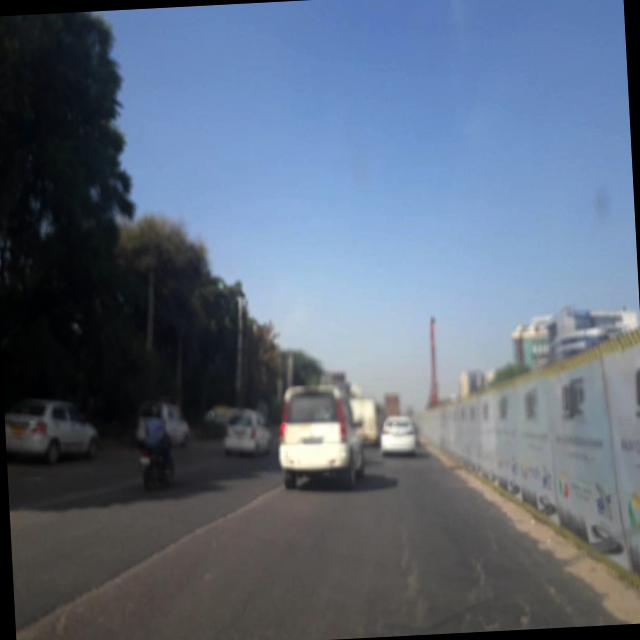crack: (446, 523, 577, 631)
pothole: (23, 488, 273, 626), (386, 510, 432, 636)
